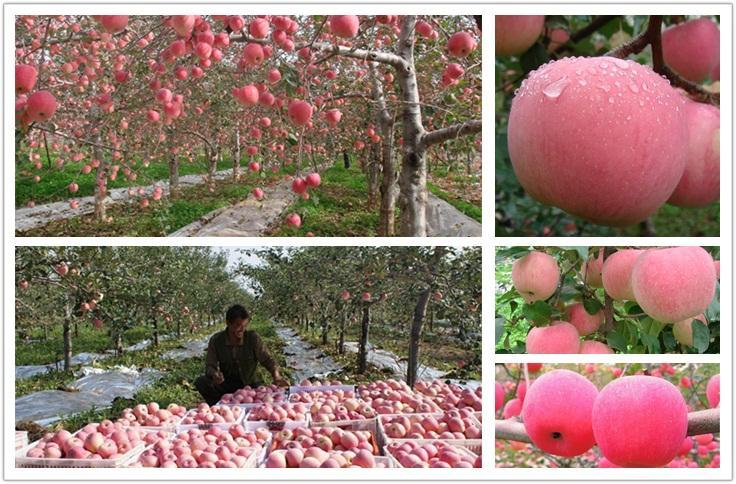apple: (507, 54, 689, 225), (586, 372, 692, 465), (519, 368, 602, 456), (629, 243, 717, 324), (661, 16, 719, 86), (511, 249, 561, 304), (525, 320, 581, 354), (326, 14, 360, 39)
